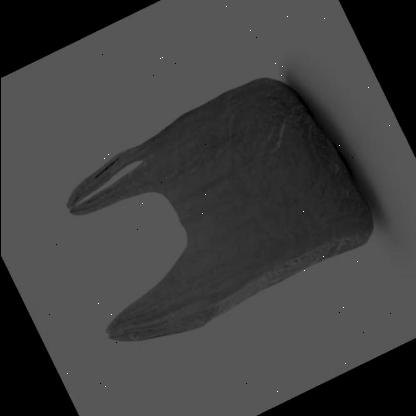Others: (66, 76, 374, 344)
